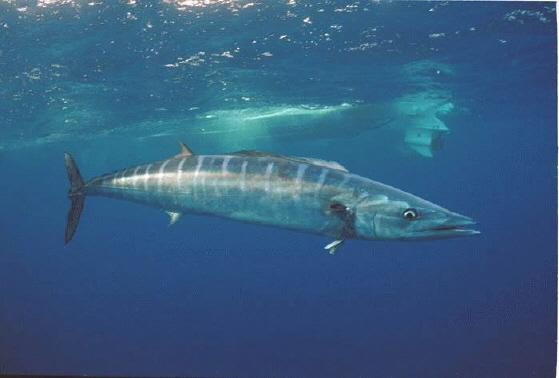Scombridae -Tunas-: (51, 135, 483, 257)
